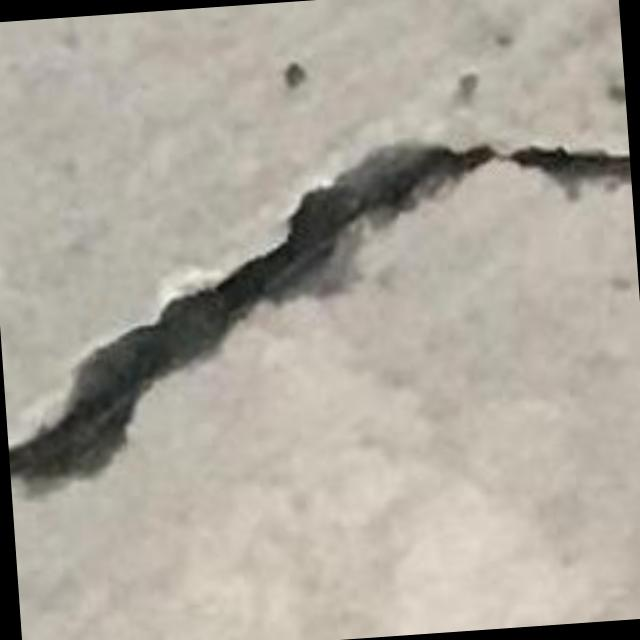crack: (9, 145, 630, 496)
